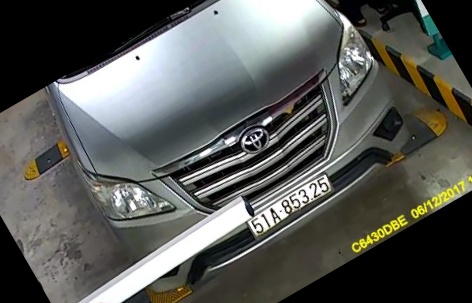plate: (241, 174, 336, 243)
